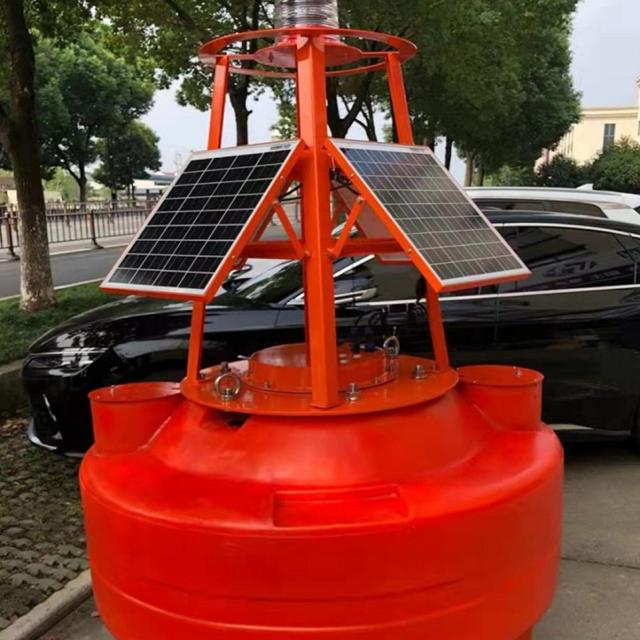buoy: (76, 0, 570, 640)
